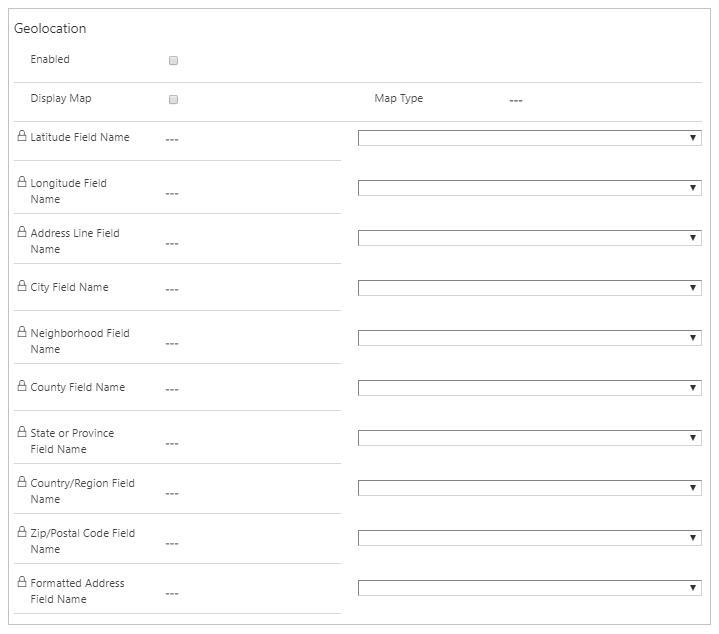checkbox: (168, 96, 181, 106), (170, 57, 180, 67)
dropdown: (359, 130, 703, 148), (360, 331, 703, 349), (359, 580, 702, 598), (359, 230, 703, 247), (361, 432, 701, 449), (359, 280, 703, 296), (359, 181, 703, 196), (359, 533, 703, 548), (360, 483, 703, 497), (359, 383, 706, 395)
icon: (164, 187, 181, 202), (16, 127, 30, 145), (165, 337, 183, 351), (166, 439, 184, 453), (166, 586, 181, 602), (510, 95, 527, 109), (14, 173, 29, 188), (166, 491, 183, 504), (166, 286, 184, 298), (166, 135, 181, 149), (164, 386, 183, 397), (16, 474, 29, 490), (166, 539, 182, 552), (16, 279, 29, 294), (16, 576, 30, 589), (16, 426, 31, 438), (166, 241, 182, 252), (18, 526, 29, 540), (19, 382, 29, 393), (19, 226, 26, 239), (19, 327, 26, 339)
label: (29, 525, 141, 559), (29, 476, 140, 507), (29, 326, 136, 358), (29, 226, 123, 258), (29, 578, 129, 608), (29, 176, 112, 209), (30, 426, 118, 457), (29, 379, 133, 397), (30, 279, 116, 297), (31, 133, 134, 146), (14, 23, 89, 38), (371, 91, 433, 109), (26, 91, 99, 106), (29, 54, 80, 67)
